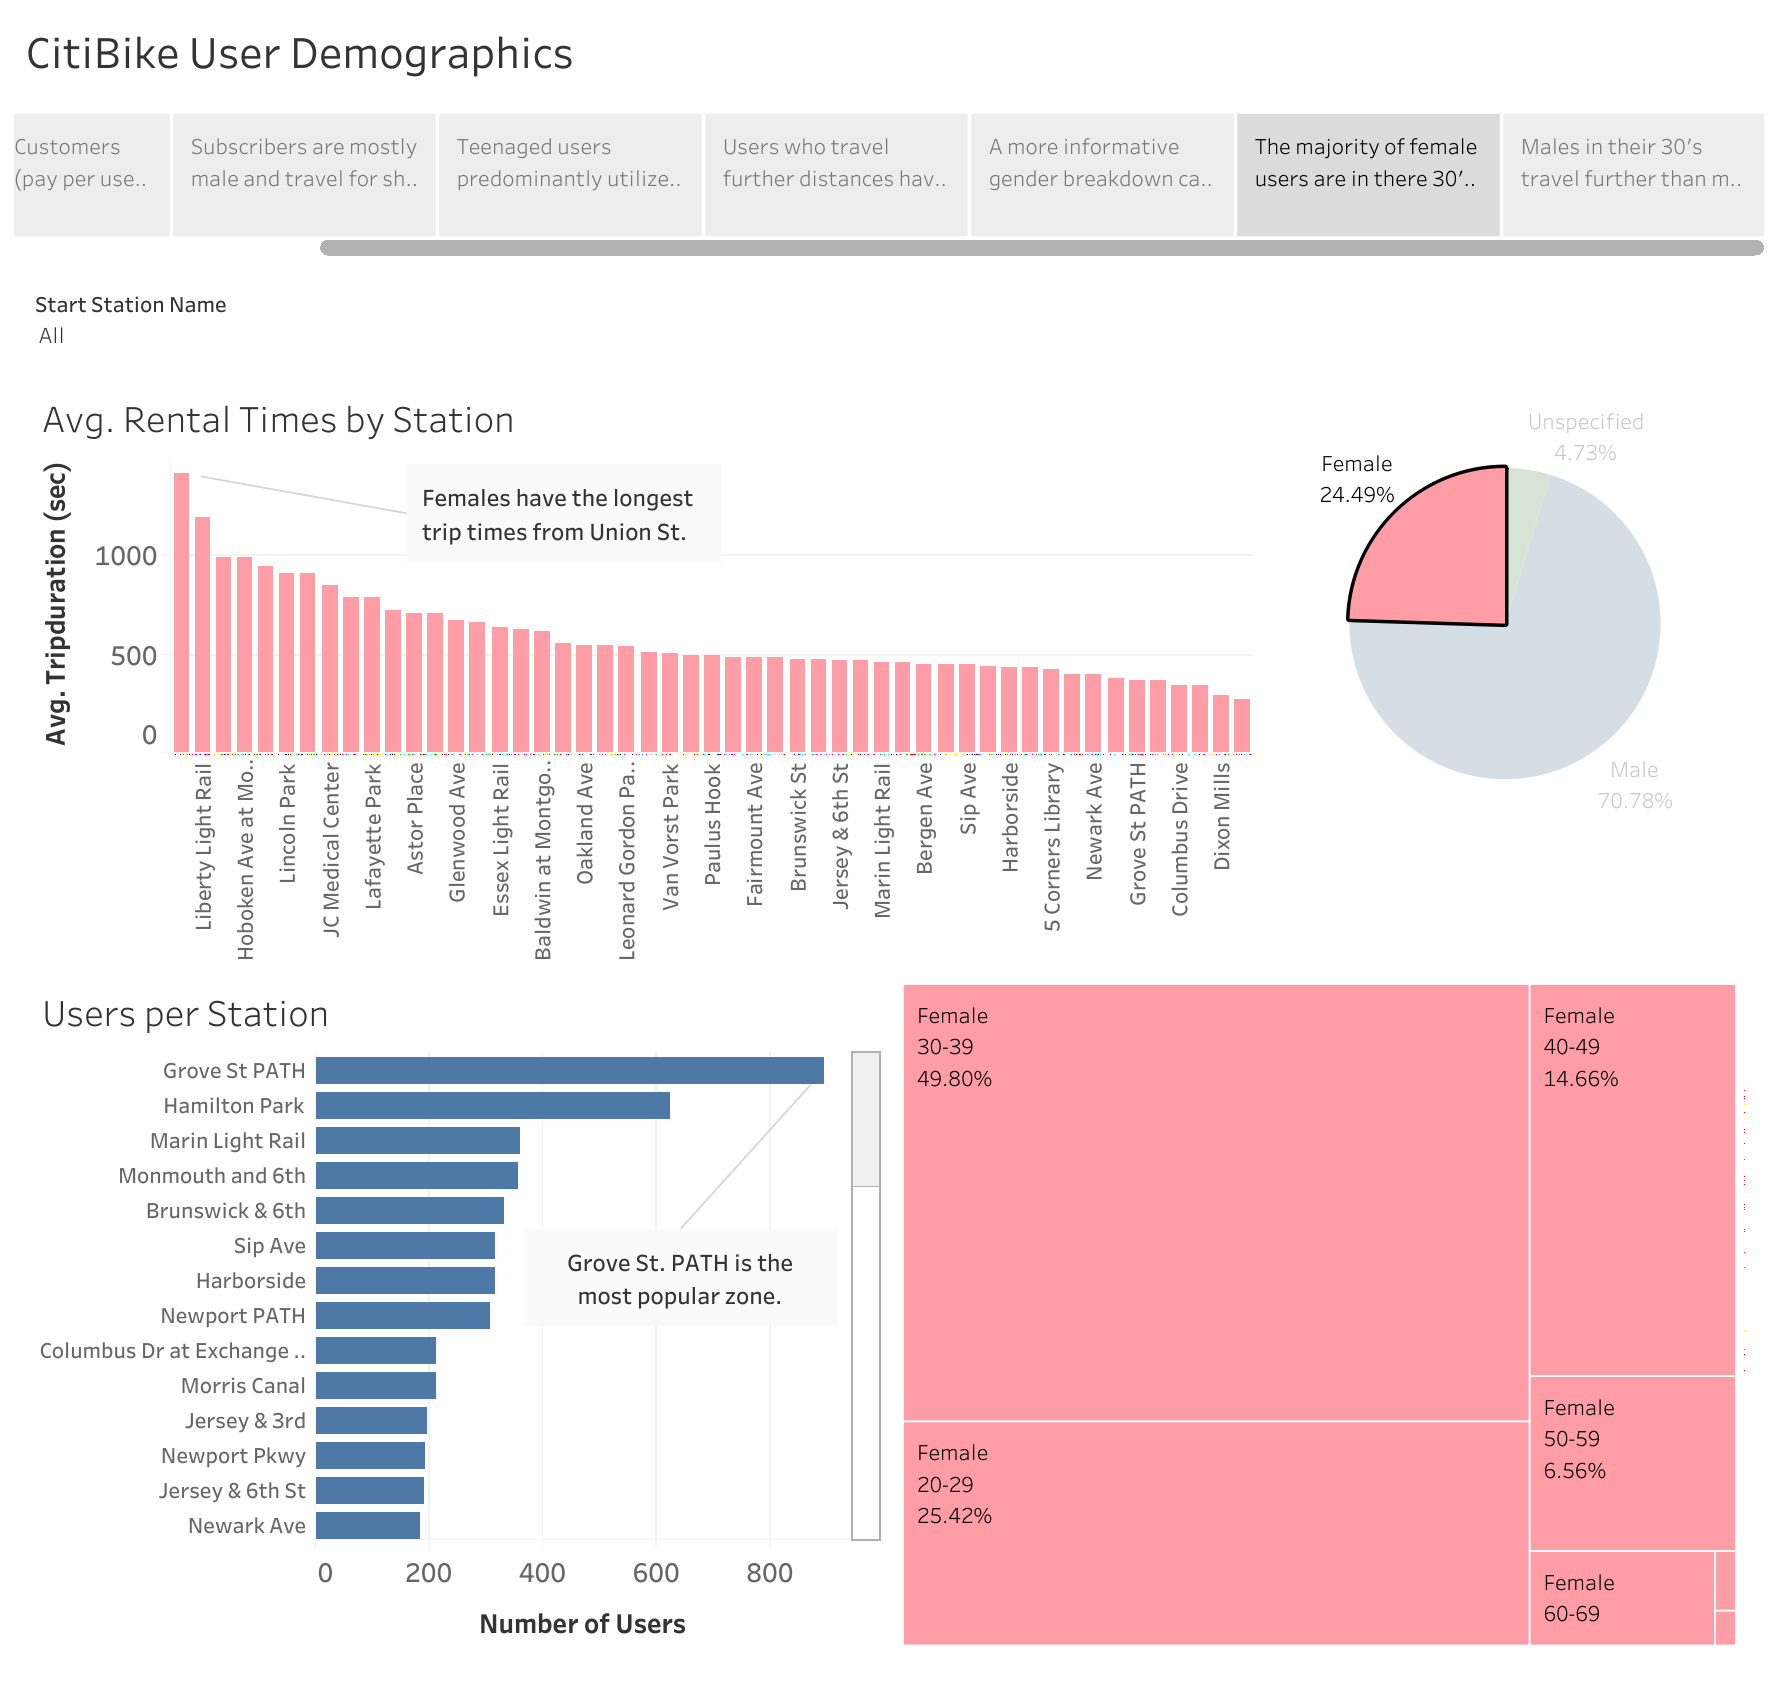

This screenshot's page, from the dashboard's own definition file:
{"tool":"tableau","page":{"name":"Gender Stats DB","canvas":[1000,1000],"units":"permille","ordinal":0},"visuals":[{"type":"filter","title":"Avg. Rental Times by Station","param":"[federated.1djbkvf0iddfvb16h6xlh0xldu7f].[none:start station name:nk]","box":[6.2,9.6,706.8,69.7]},{"type":"worksheet","title":"Gender","mark":"Pie","box":[713,9.6,280.8,490.4]},{"type":"worksheet","title":"Avg. Rental Times by Station","mark":"Automatic","rows":["tripduration"],"cols":["start station name"],"box":[6.2,79.3,706.8,420.7]},{"type":"worksheet","title":"Users per Station","mark":"Automatic","rows":["start station name"],"cols":["Number of Records"],"box":[6.2,500,493.8,490.4]},{"type":"worksheet","title":"Gender-Age Treemap","mark":"Automatic","box":[500,500,493.8,490.4]}]}

Visuals, with their boxes on the dashboard's canvas, which has no fixed pixel size, in thousandths of its width and height (x1, y1, x2, y2). These are canvas units, not pixel positions in the 1776x1685 screenshot, which may show the page scaled, cropped or inside an application window:
"Avg. Rental Times by Station" filter: 6, 10, 713, 79
"Gender" worksheet (Pie marks): 713, 10, 994, 500
"Avg. Rental Times by Station" worksheet: 6, 79, 713, 500
"Users per Station" worksheet: 6, 500, 500, 990
"Gender-Age Treemap" worksheet: 500, 500, 994, 990
